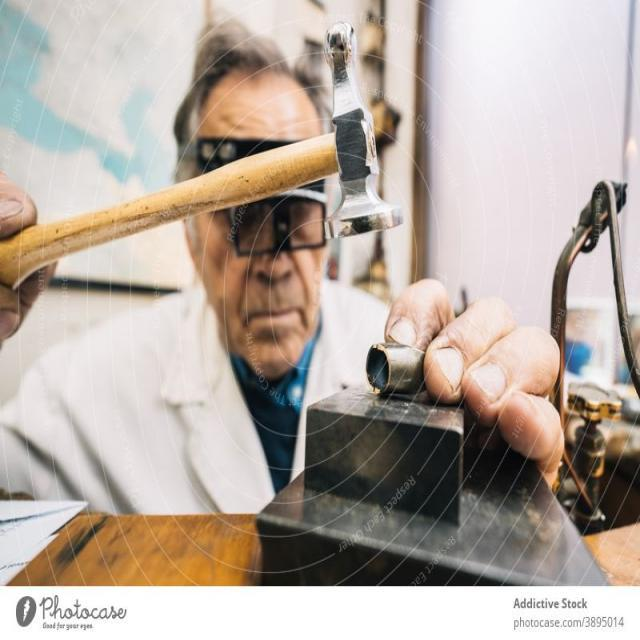hammer: (36, 10, 410, 278)
